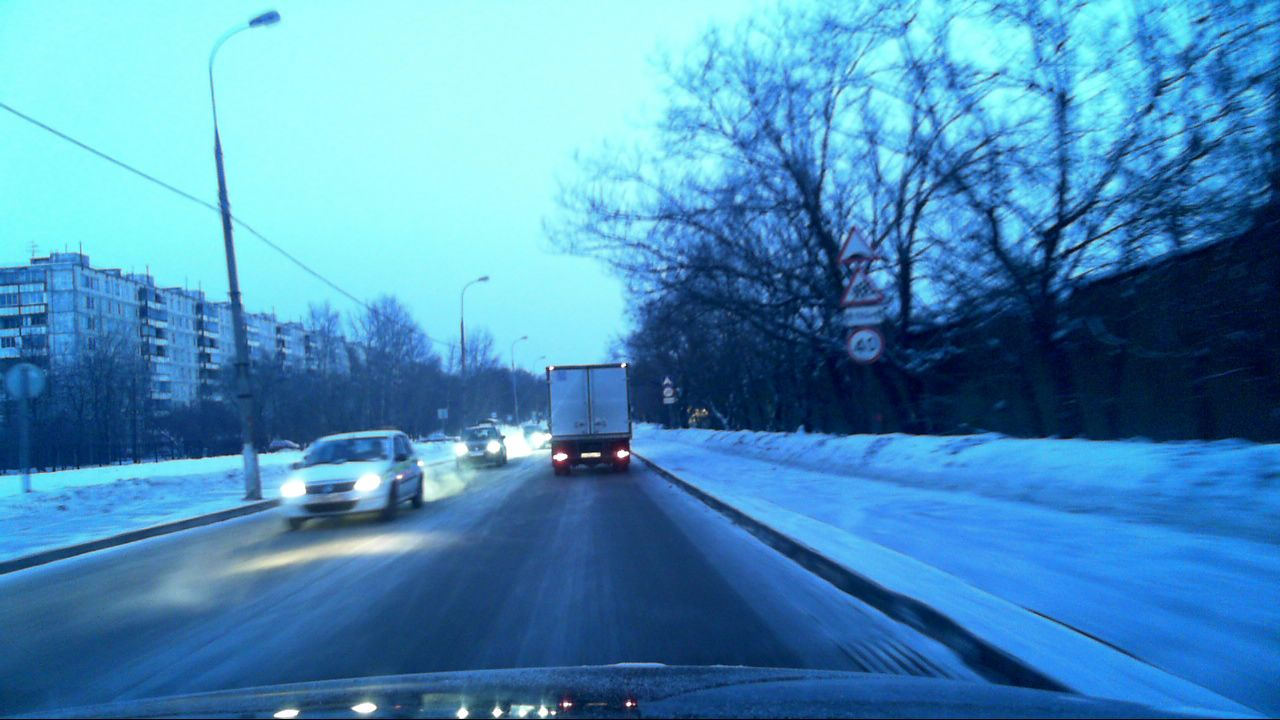speed_warning_40: (848, 328, 882, 361)
